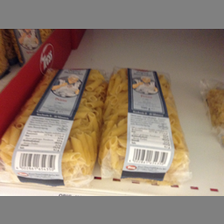pasta: (99, 59, 194, 186), (1, 66, 102, 183)
